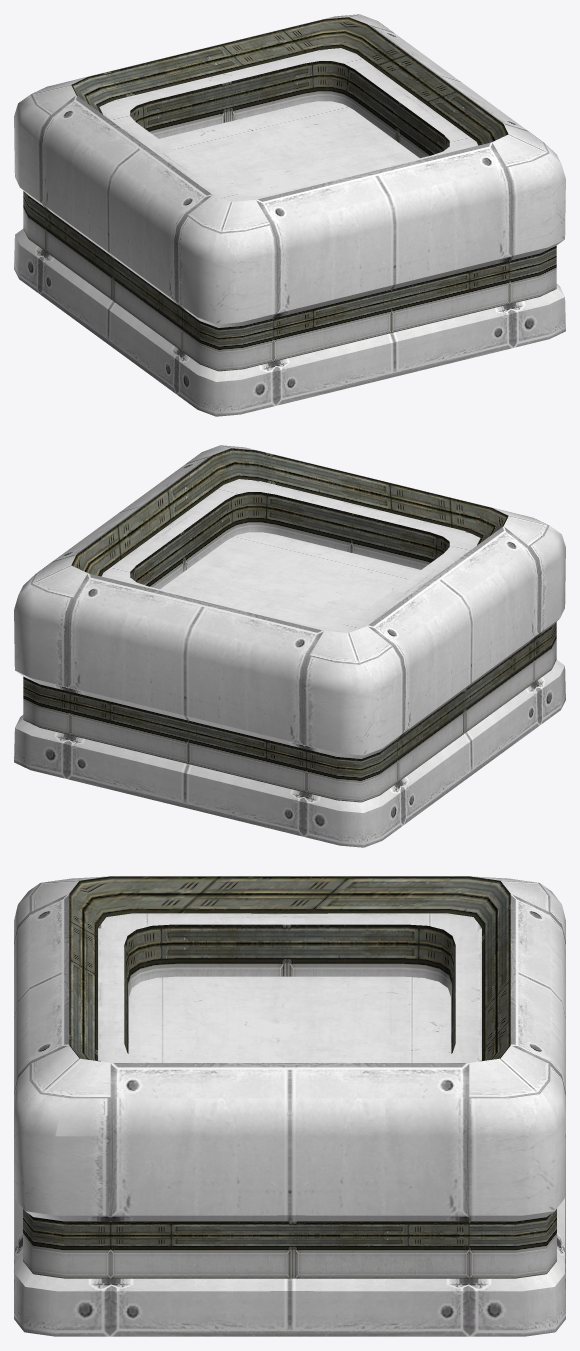
The model's file is Emb_PlanterBalc_2x2.FBX.
3 views of the same model, one above another, from view 1: azimuth 30°, elevation 25°; view 2: azimuth 150°, elevation 25°; view 3: azimuth 270°, elevation 25° (orthographic). The views are drawn at different scales.
Visible parts, largest first — view 1: Emb_PlanterBalc_2x2; view 2: Emb_PlanterBalc_2x2; view 3: Emb_PlanterBalc_2x2.
Boxes of the visible parts, x1=… form: Emb_PlanterBalc_2x2: x1=14, y1=14, x2=565, y2=416; Emb_PlanterBalc_2x2: x1=14, y1=445, x2=565, y2=847; Emb_PlanterBalc_2x2: x1=14, y1=876, x2=565, y2=1336.
Size of the model in its own units: 2 by 1 by 2.
